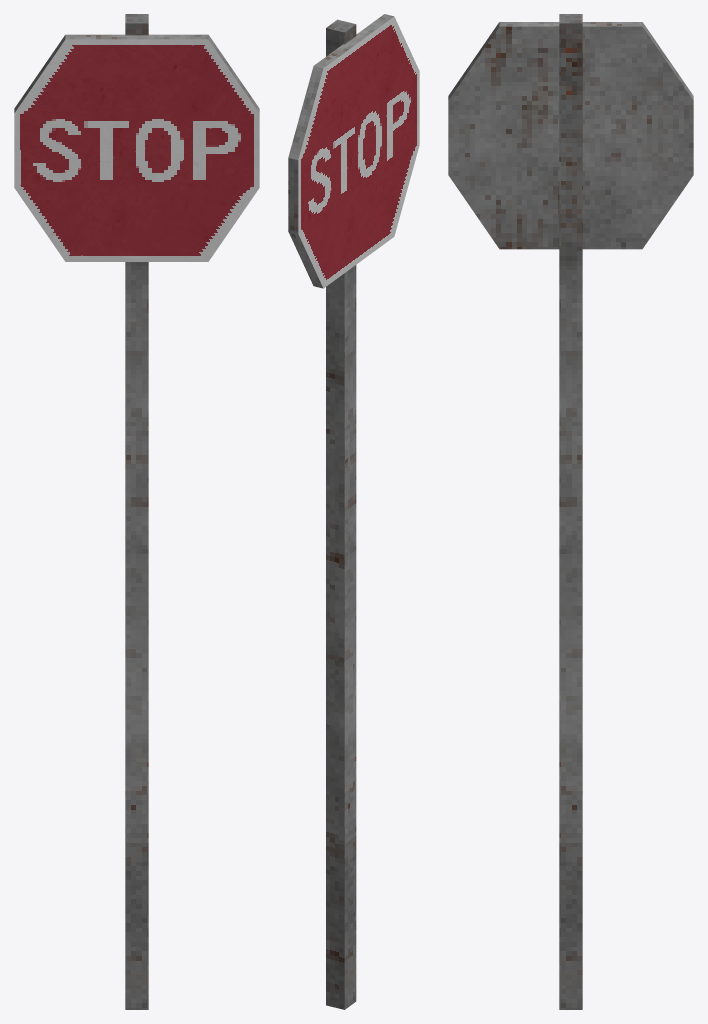
Rendered from Sign_Stop.glb.
3 views of the same model, side by side, from view 1: azimuth 90°, elevation 25°; view 2: azimuth 150°, elevation 25°; view 3: azimuth 270°, elevation 25° (orthographic).
Visible parts, largest first — view 1: Sign_Stop; view 2: Sign_Stop; view 3: Sign_Stop.
Boxes of the visible parts, x1,y1,x2,y2 form: Sign_Stop: (14,14,259,1009); Sign_Stop: (288,14,419,1009); Sign_Stop: (448,14,693,1009).
Size of the model in its own units: 0.0617 by 2.12 by 0.4768.
1 material, 1 textured.
